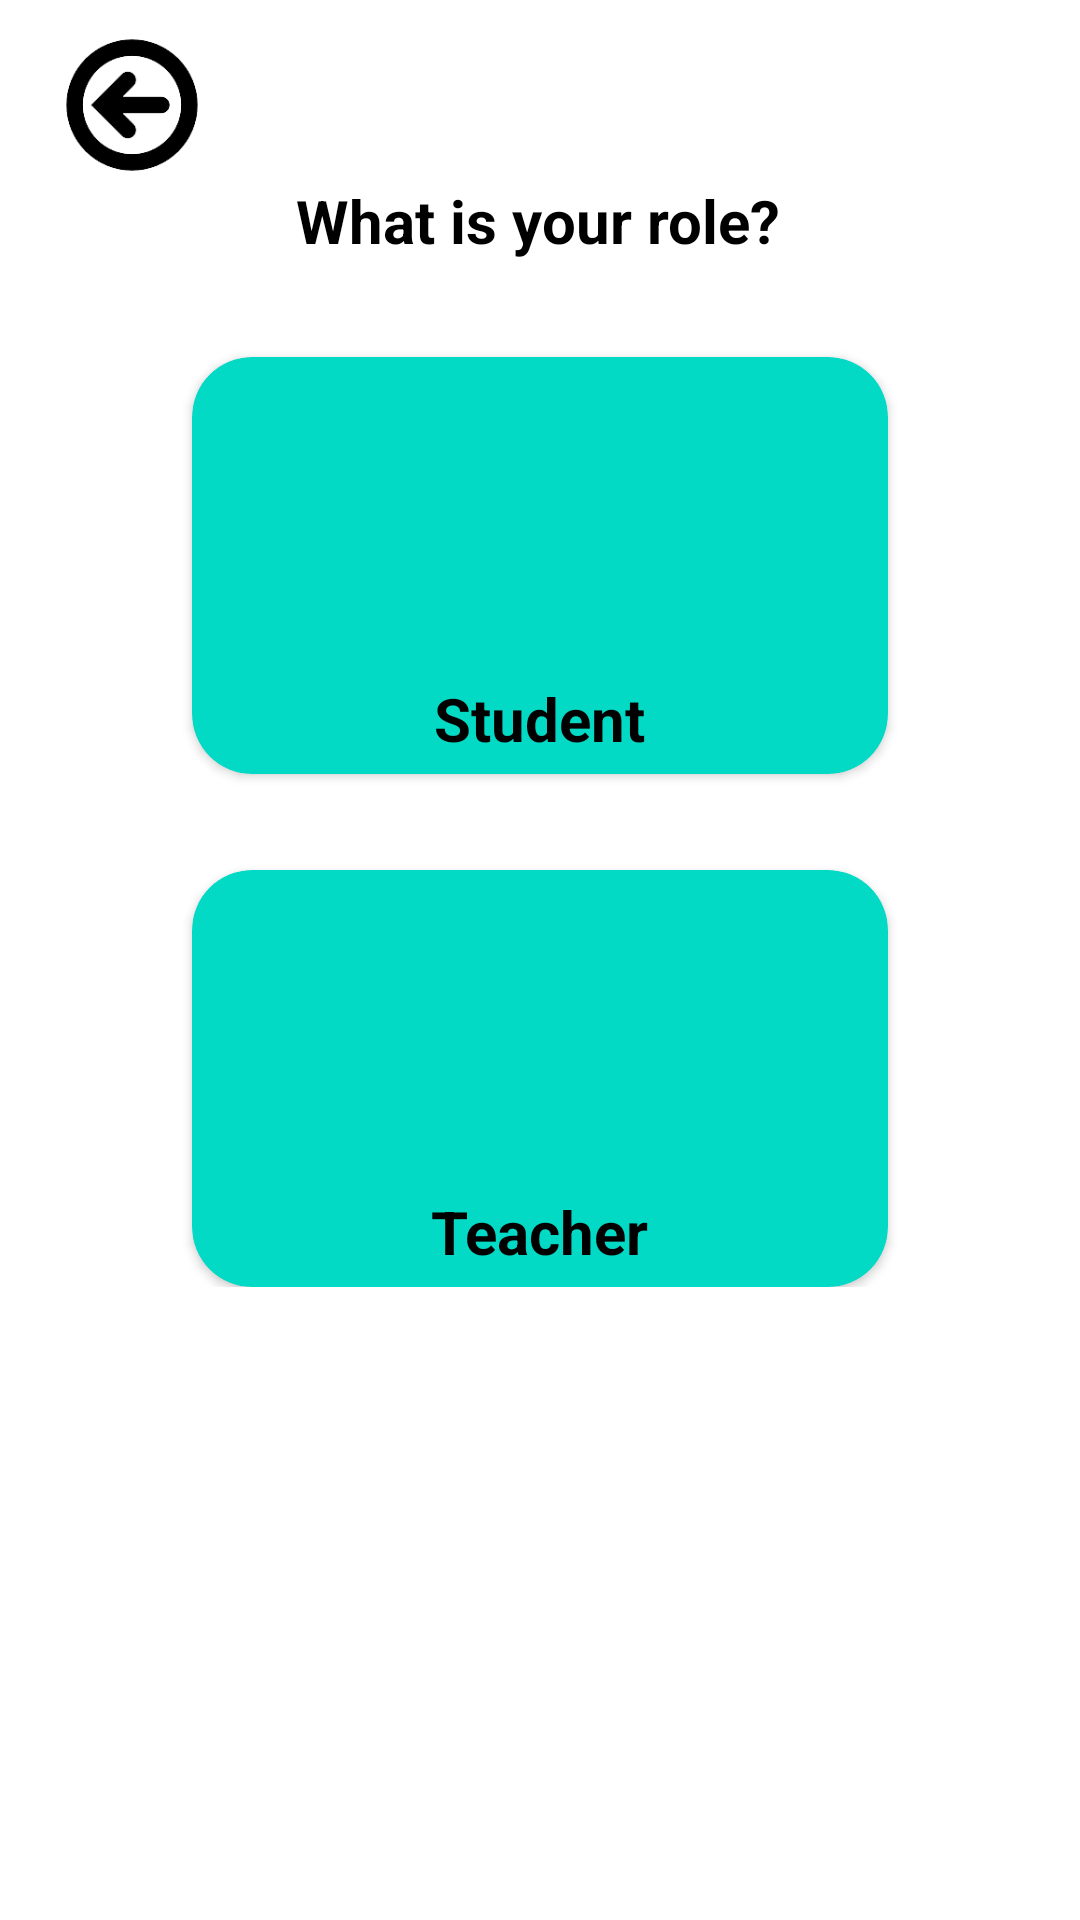

Screen size 1080px×1920px. Icon name, then its box in pixels as [x1, y1, x2, y2]:
backbutton: [66, 39, 198, 171]
